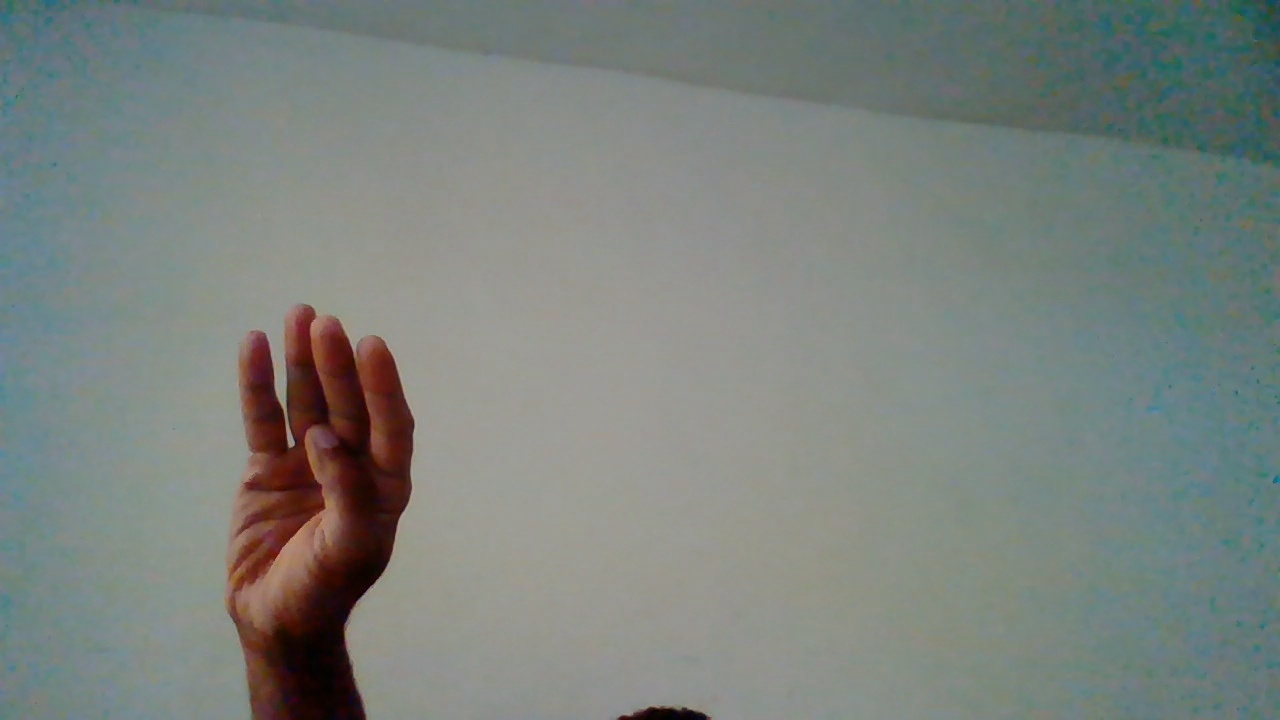me: (220, 300, 418, 713)
